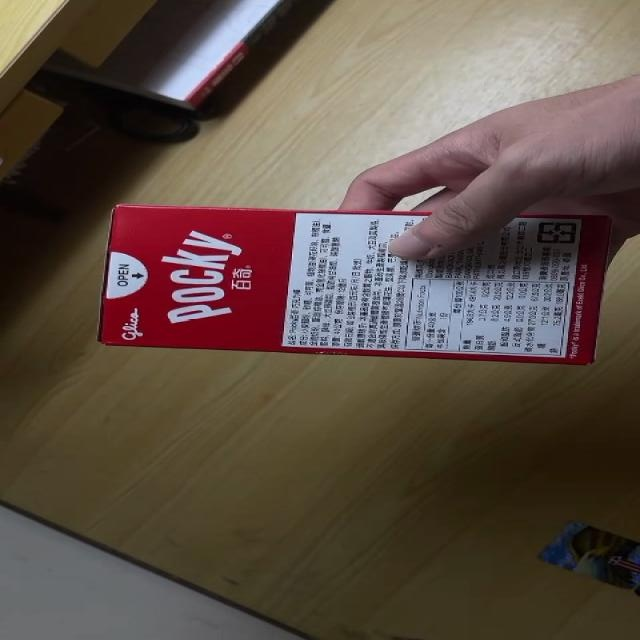Pocky: (98, 202, 614, 368)
